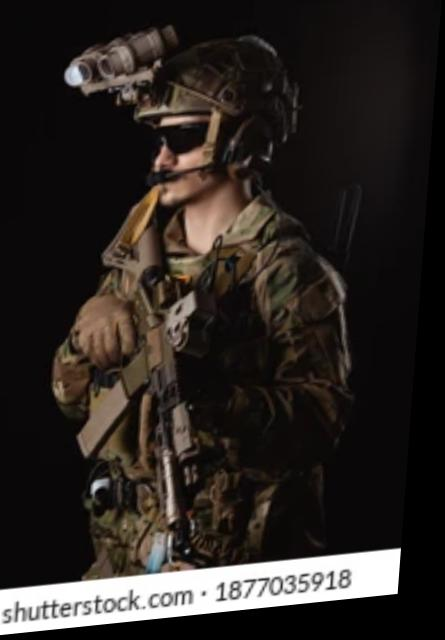other: (47, 59, 326, 557)
